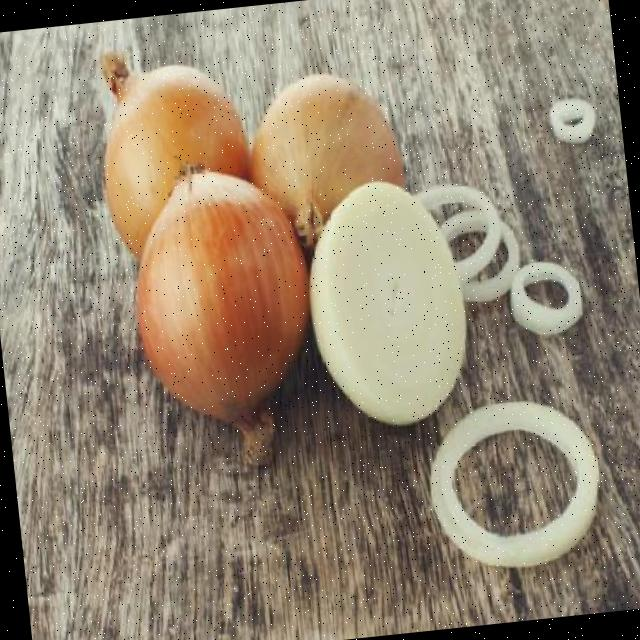Onion: (135, 169, 309, 466), (100, 52, 250, 255), (252, 72, 406, 246)
